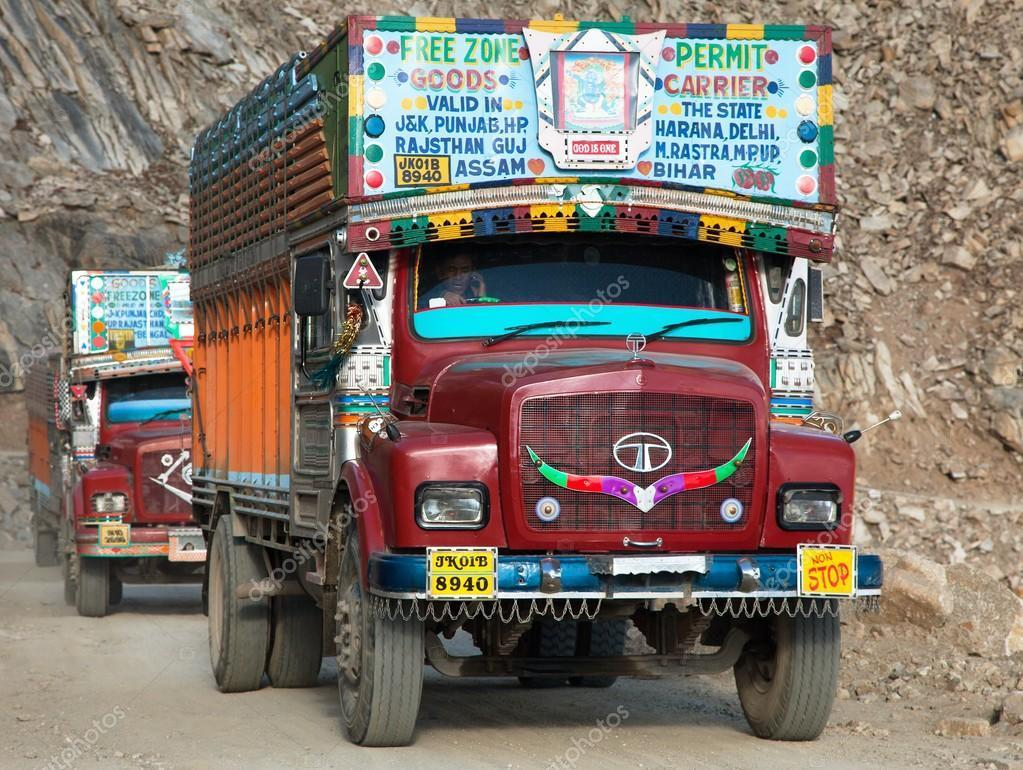truck: (170, 23, 880, 734)
